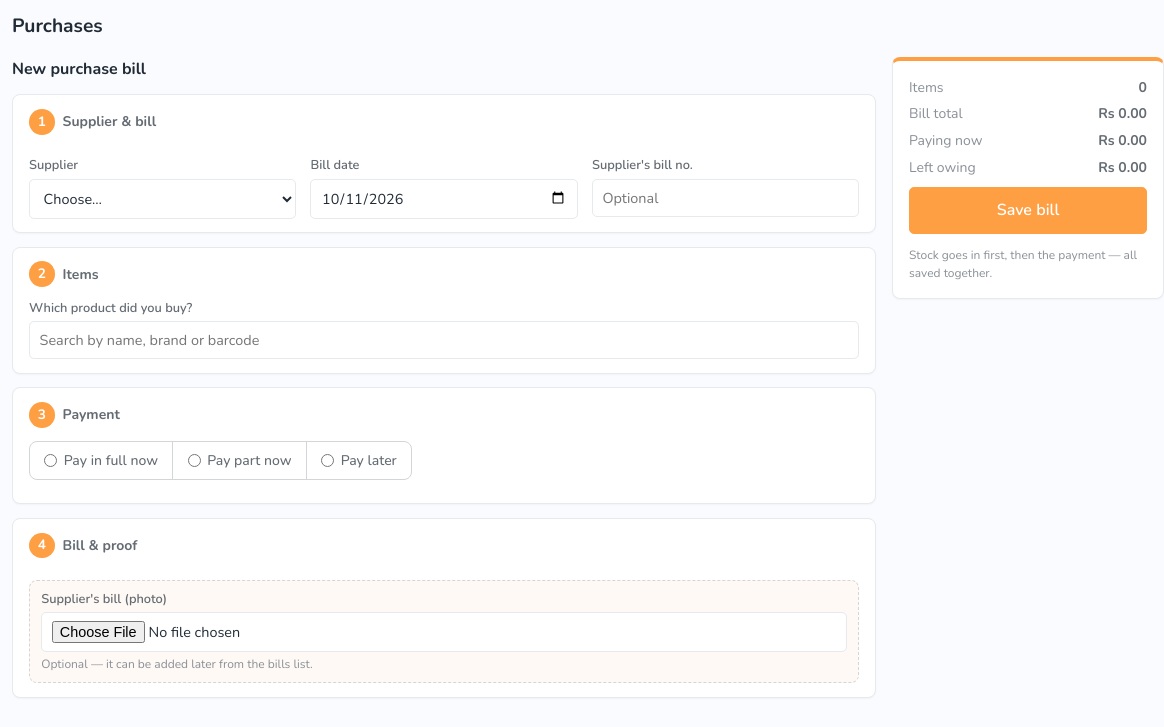
Test: a search too short for the server › is never sent, and says why instead
The width and height of the screenshot is (1164, 727).
In the field labelled "Which product did you buy?": (444, 340) [29,321,859,359], type "c"
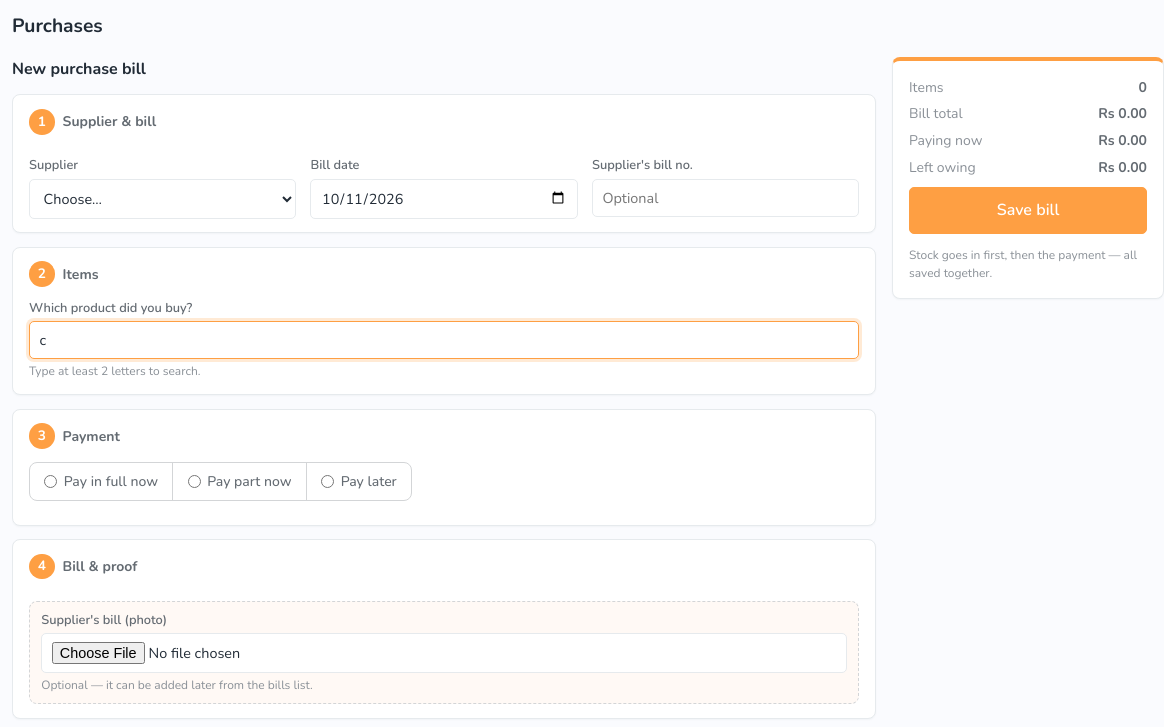
Result: the text "Type at least 2 letters to search." is shown at [29,364,200,380]
